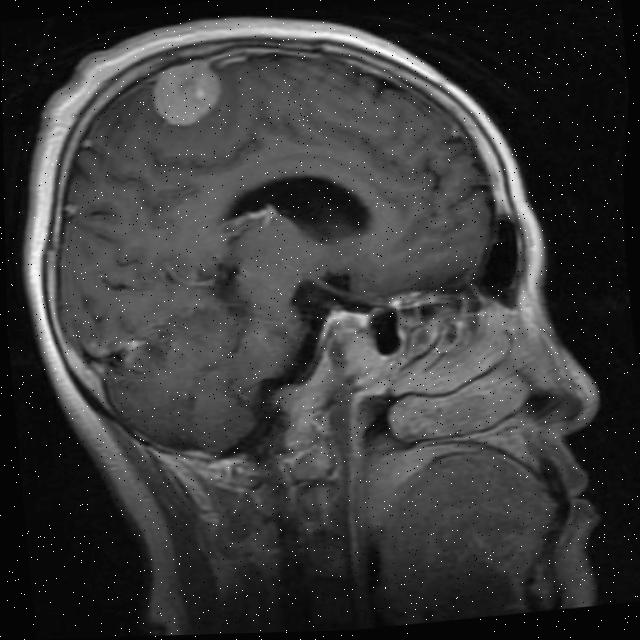Meningioma: (147, 54, 227, 132)
